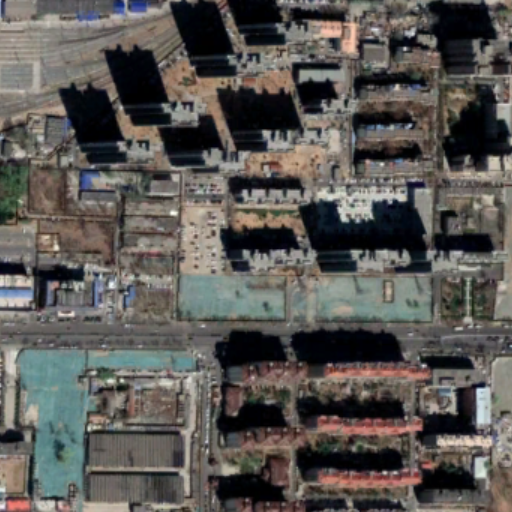cw: (15, 344, 196, 504), (173, 273, 434, 321)
